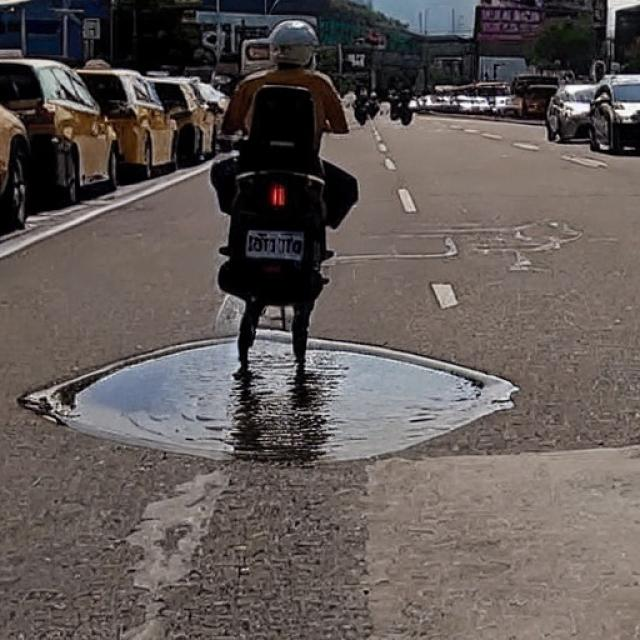puddle: (30, 332, 512, 463)
